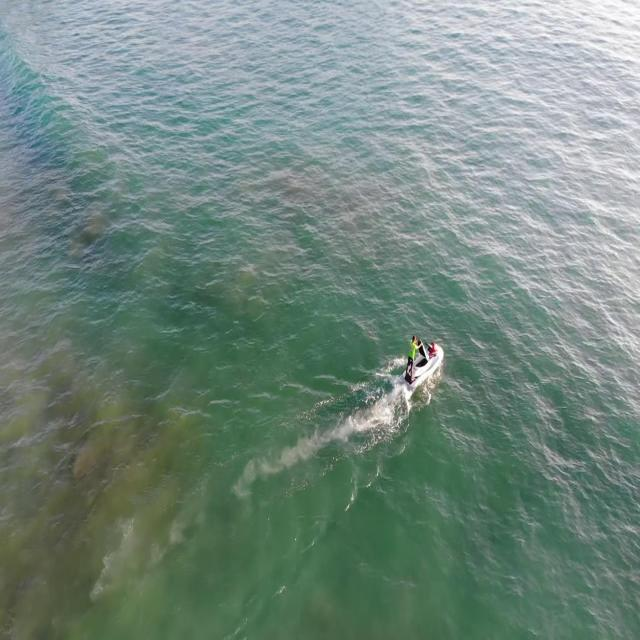boat: (397, 334, 445, 396)
